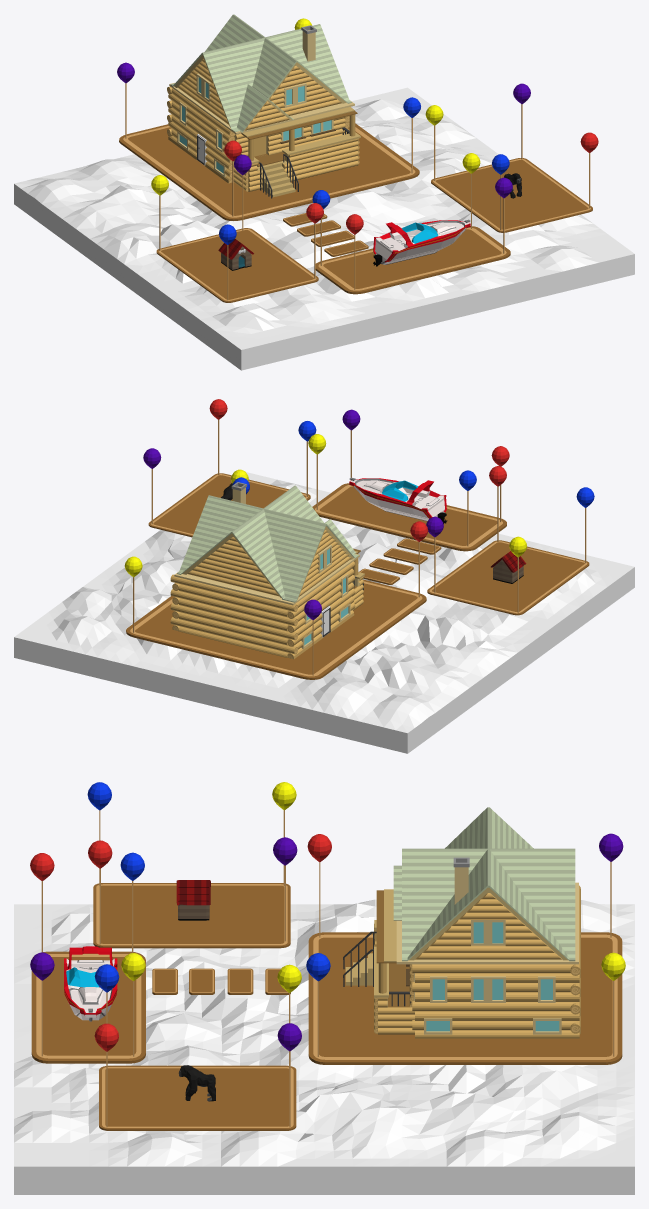
3 renders of one model, top to bottom at view 1: azimuth 30°, elevation 25°; view 2: azimuth 150°, elevation 25°; view 3: azimuth 270°, elevation 25°, orthographic. The views are drawn at different scales.
Parts seen in each view (by area): view 1: Cube.013, Cube.1516, VEHICLES_BOAT, OBJRANDOM_DOGHOUSE; view 2: Cube.013, Cube.1516, VEHICLES_BOAT, OBJRANDOM_DOGHOUSE; view 3: Cube.013, Cube.1516, VEHICLES_BOAT, OBJRANDOM_DOGHOUSE, ANIMAL_GORILA.
Part boxes in pixels (bbox=[...]): Cube.013: bbox=[14, 18, 634, 370]; Cube.1516: bbox=[167, 14, 360, 198]; VEHICLES_BOAT: bbox=[373, 219, 470, 266]; OBJRANDOM_DOGHOUSE: bbox=[218, 239, 253, 270]; Cube.013: bbox=[14, 399, 634, 753]; Cube.1516: bbox=[170, 482, 364, 659]; VEHICLES_BOAT: bbox=[349, 477, 447, 523]; OBJRANDOM_DOGHOUSE: bbox=[491, 551, 526, 583]; Cube.013: bbox=[14, 782, 634, 1194]; Cube.1516: bbox=[343, 807, 580, 1038]; VEHICLES_BOAT: bbox=[64, 946, 117, 1021]; OBJRANDOM_DOGHOUSE: bbox=[176, 880, 210, 920]; ANIMAL_GORILA: bbox=[178, 1065, 215, 1101].
Size of the model in its own units: 4000 by 1666 by 4000.
39 materials, 2 textured.
